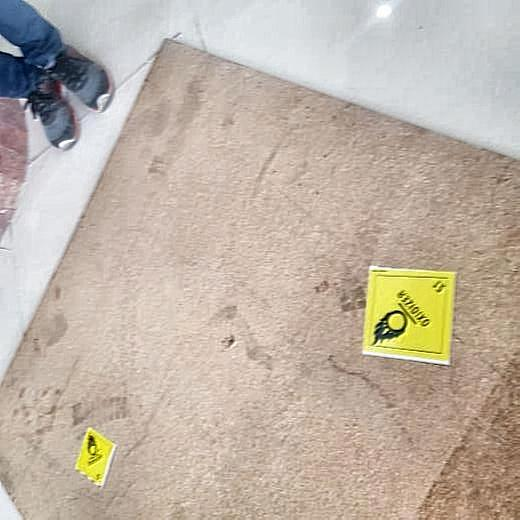oxidizer: (361, 265, 458, 367), (74, 424, 117, 490)
